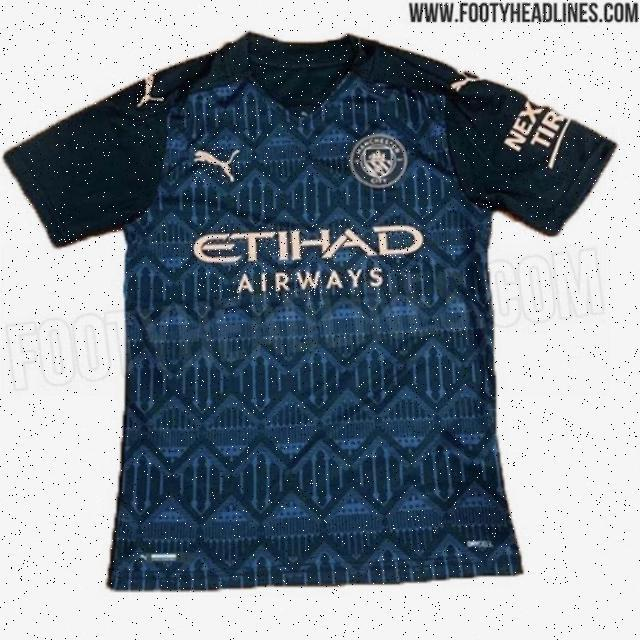Etihad Airways: (193, 224, 425, 295)
Puma: (192, 146, 241, 184), (136, 73, 163, 107), (452, 68, 480, 92)
